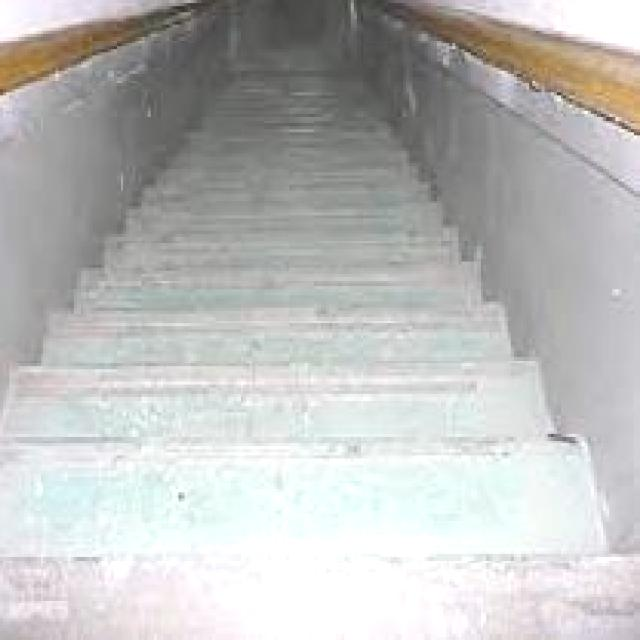downstair: (1, 352, 478, 524)
